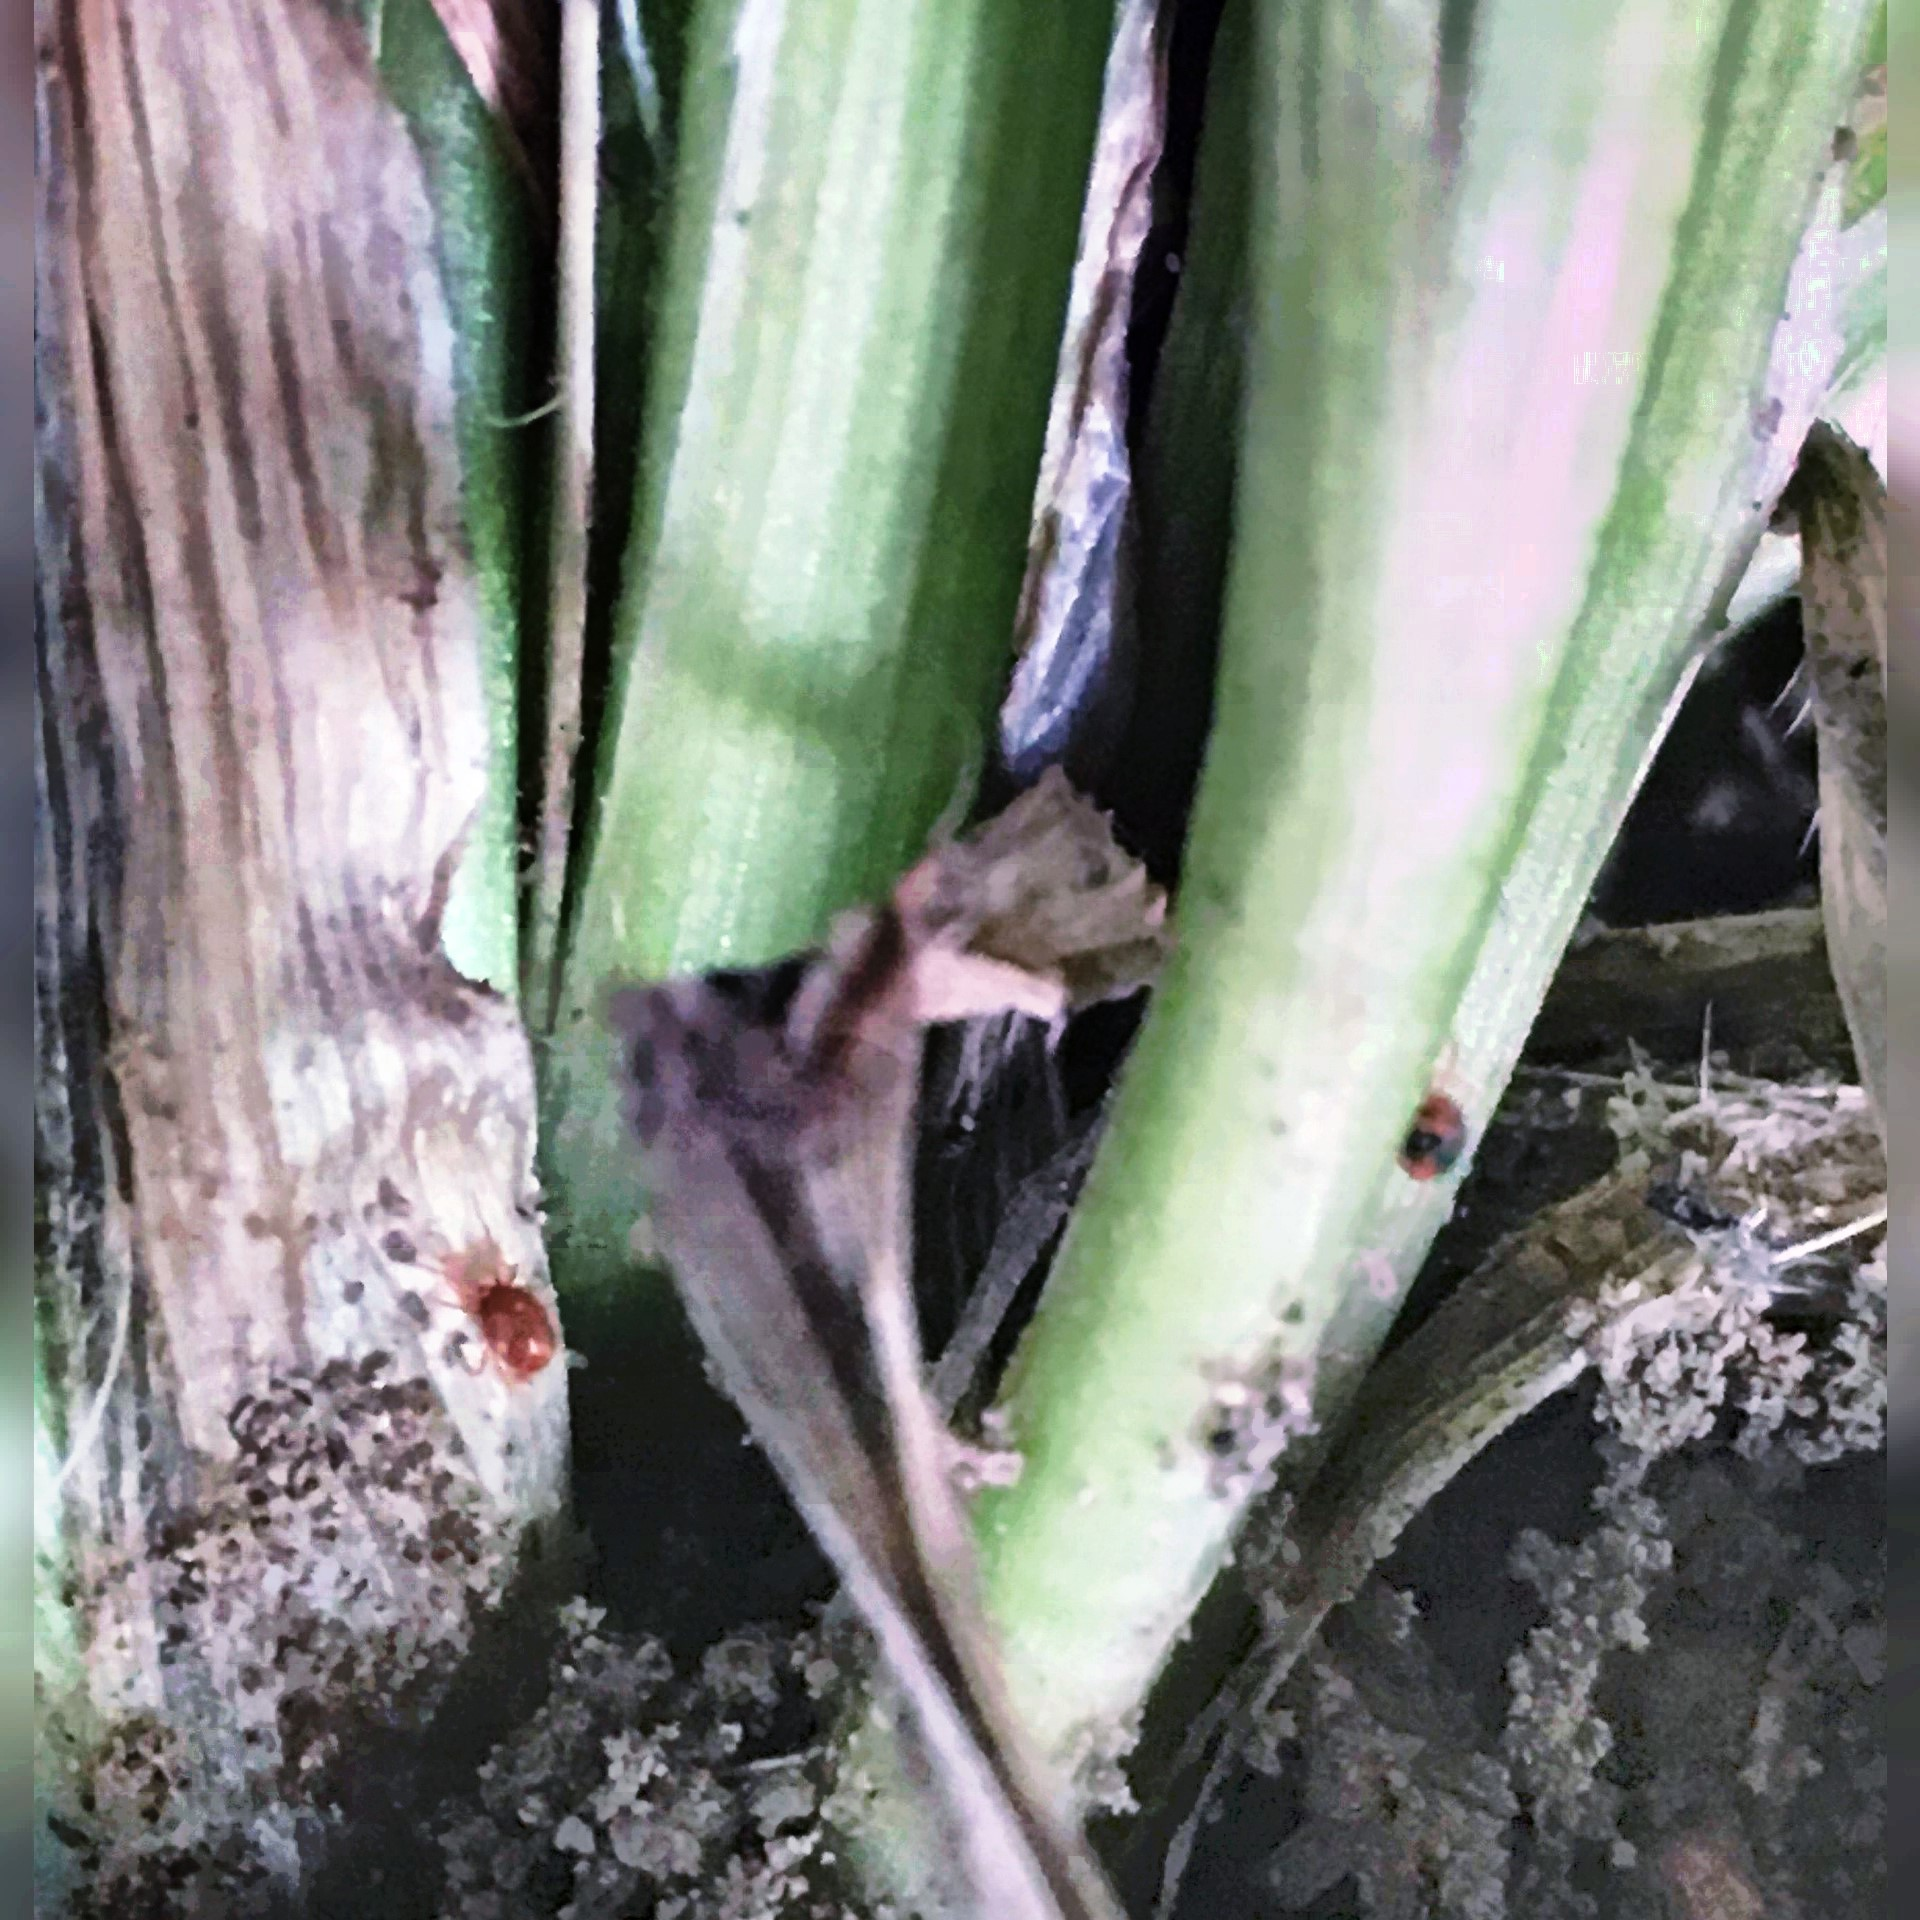Wheat Red Spider: (404, 1225, 582, 1422)
